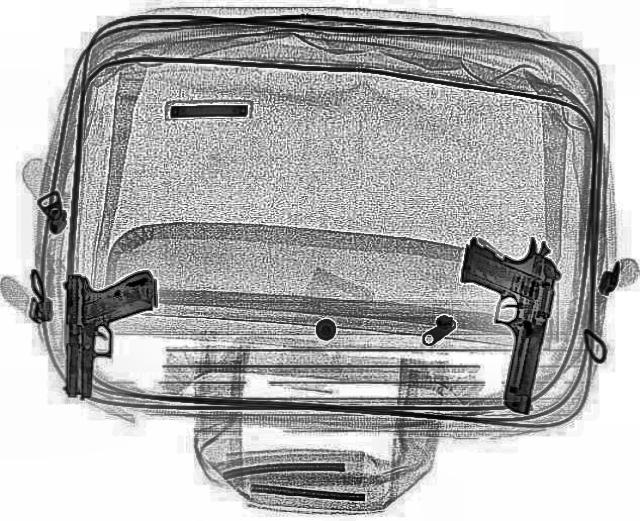Gun: (430, 229, 566, 414), (59, 267, 157, 398)
